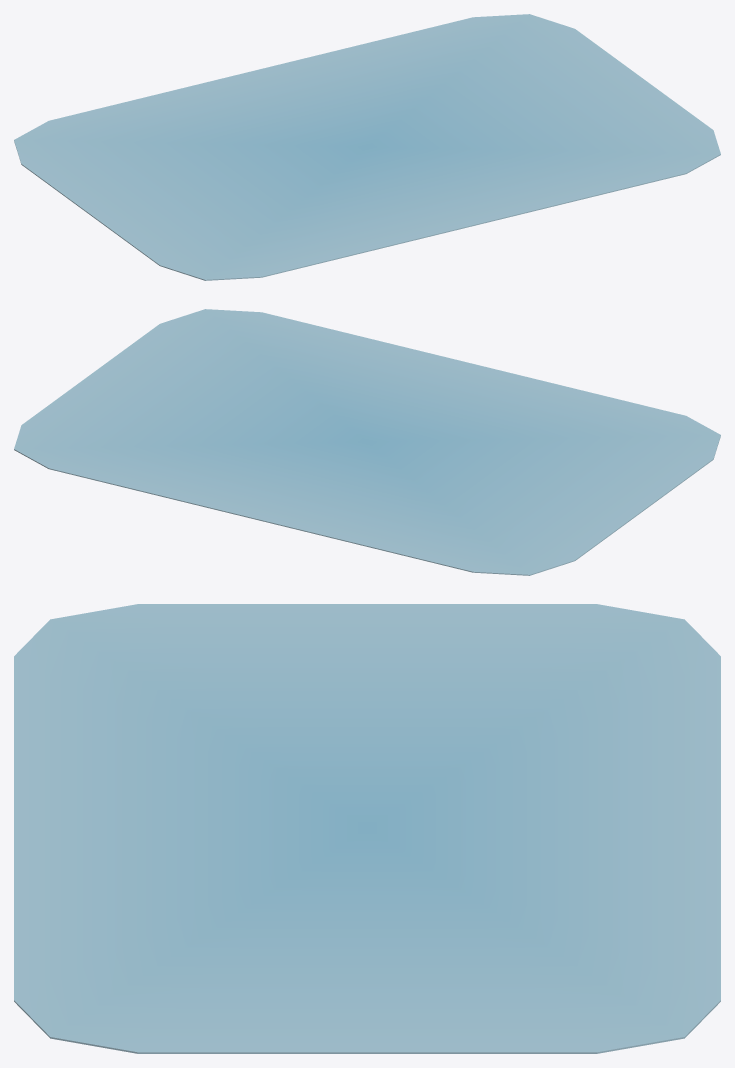
File: water-strip.glb
3 views of the same model, one above another, from view 1: azimuth 30°, elevation 25°; view 2: azimuth 150°, elevation 25°; view 3: azimuth 270°, elevation 25° (orthographic). The views are drawn at different scales.
Visible parts, largest first — view 1: water-strip; view 2: water-strip; view 3: water-strip.
Part boxes in pixels (x1,y1,x2,y2): water-strip: [14, 14, 720, 280]; water-strip: [14, 309, 720, 575]; water-strip: [14, 604, 720, 1053].
Bounding box in the file's own units: 60 × 0.1 × 40.
